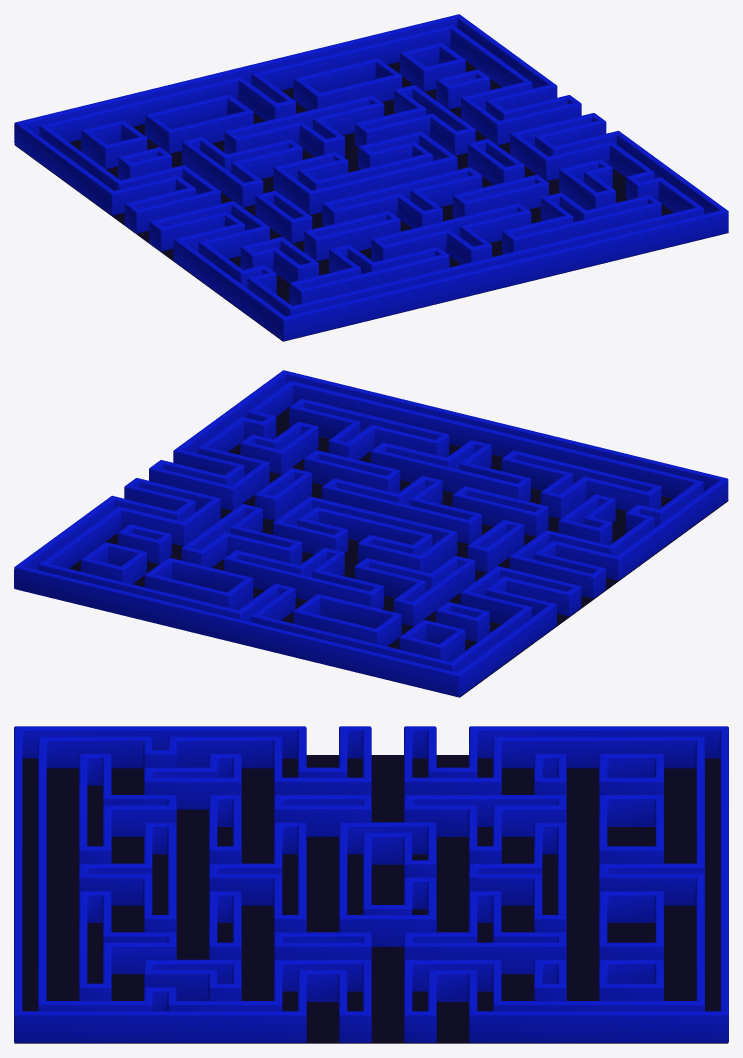
Rendered from pacmanMap.gltf.
3 renders of one model, top to bottom at view 1: azimuth 30°, elevation 25°; view 2: azimuth 150°, elevation 25°; view 3: azimuth 270°, elevation 25°, orthographic. The views are drawn at different scales.
Parts seen in each view (by area): view 1: allmaptest, allmaptest.003, floor; view 2: allmaptest, allmaptest.003, floor; view 3: allmaptest, floor, allmaptest.003.
Part boxes in pixels (x1,y1,x2,y2): allmaptest: [14, 14, 728, 340]; allmaptest.003: [16, 14, 726, 318]; floor: [14, 60, 728, 341]; allmaptest: [14, 370, 728, 697]; allmaptest.003: [15, 370, 726, 674]; floor: [14, 408, 728, 697]; allmaptest: [14, 726, 728, 1042]; floor: [14, 755, 728, 1043]; allmaptest.003: [15, 726, 727, 1013].
Size of what is drawn, in the model's own units: 42.03 by 2 by 44.
